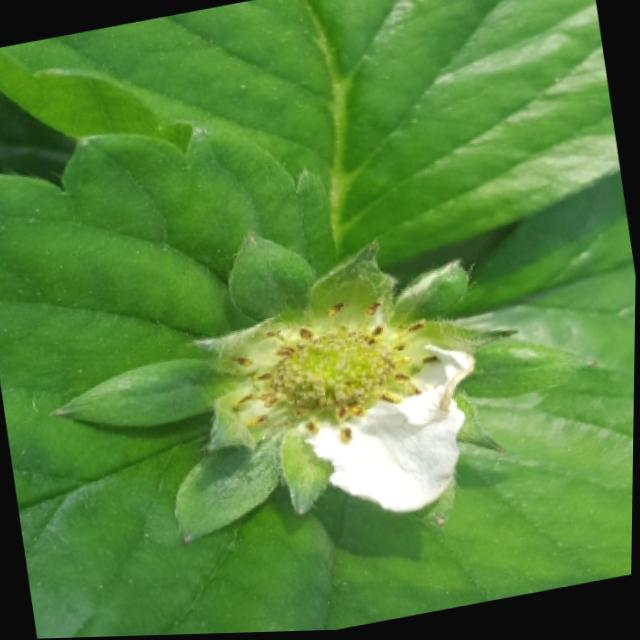Blossom Blight: (231, 297, 450, 452)
